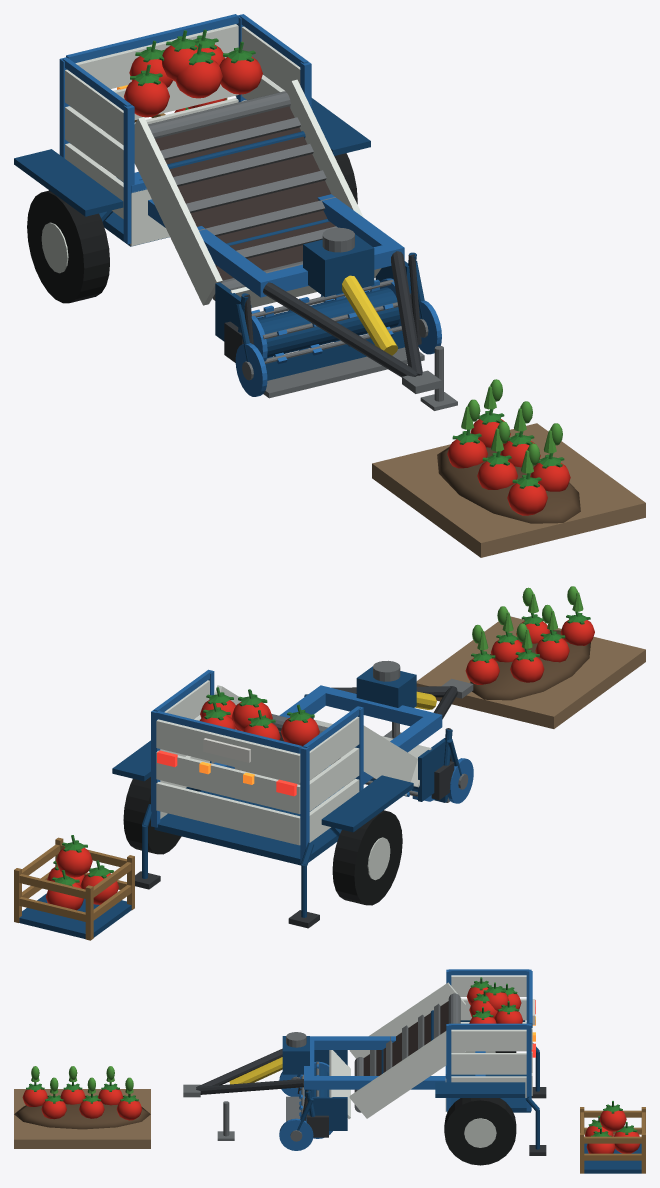
Rendered from tomato_harvester.glb.
3 views of the same model, one above another, from view 1: azimuth 30°, elevation 25°; view 2: azimuth 150°, elevation 25°; view 3: azimuth 270°, elevation 25° (orthographic). The views are drawn at different scales.
Visible parts, largest first — view 1: TomatoBody, TomatoProps, TomatoPickup; view 2: TomatoBody, TomatoProps; view 3: TomatoBody, TomatoProps, TomatoPickup.
Part boxes in pixels (x1,y1,x2,y2): TomatoBody: (14, 14, 457, 410); TomatoProps: (134, 95, 645, 557); TomatoPickup: (251, 278, 402, 364); TomatoBody: (112, 660, 473, 928); TomatoProps: (14, 586, 645, 940); TomatoBody: (183, 969, 546, 1165); TomatoProps: (14, 1066, 645, 1173); TomatoPickup: (299, 1061, 332, 1138).
Bounding box in the file's own units: 2.59 × 1.83 × 7.38.
